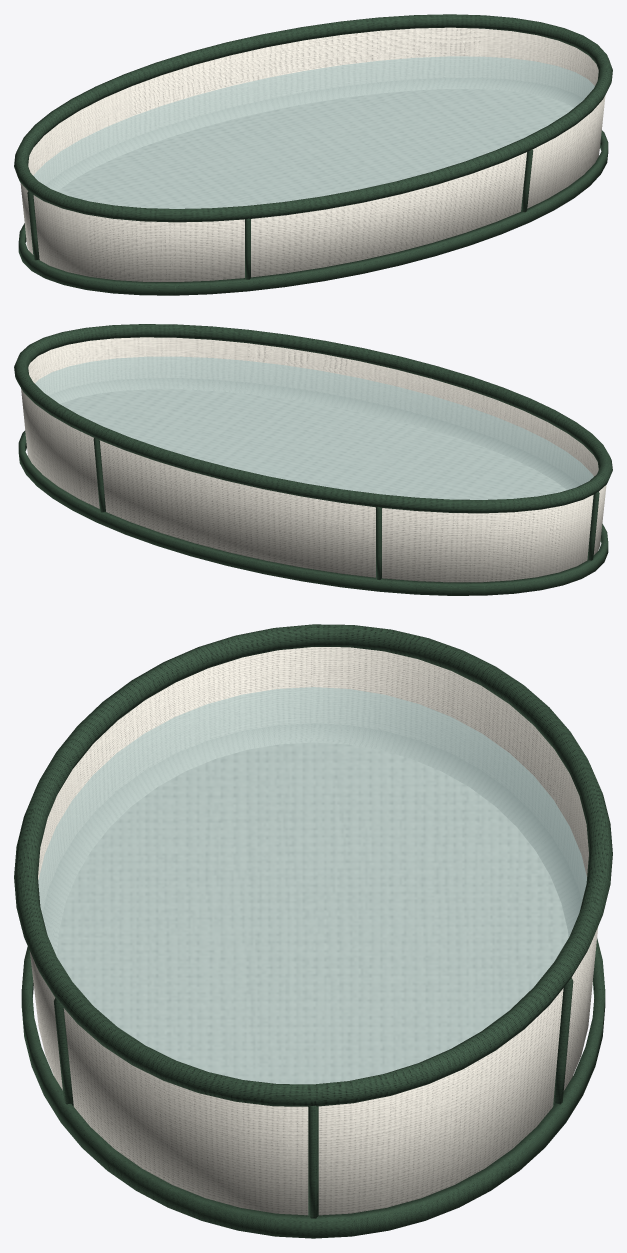
The model's file is PoolBath.fbx.
3 views of the same model, one above another, from view 1: azimuth 30°, elevation 25°; view 2: azimuth 150°, elevation 25°; view 3: azimuth 270°, elevation 25° (orthographic). The views are drawn at different scales.
Parts seen in each view (by area): view 1: PoolBath_Floor, PoolBath_Water, PoolBath_Rim, PoolBath_Wall; view 2: PoolBath_Floor, PoolBath_Water, PoolBath_Rim, PoolBath_Wall; view 3: PoolBath_Floor, PoolBath_Water, PoolBath_Rim, PoolBath_Wall.
Boxes of the visible parts, x1=… form: PoolBath_Floor: x1=20, y1=27, x2=605, y2=281; PoolBath_Water: x1=34, y1=56, x2=594, y2=208; PoolBath_Rim: x1=14, y1=14, x2=612, y2=222; PoolBath_Wall: x1=18, y1=130, x2=608, y2=295; PoolBath_Floor: x1=21, y1=337, x2=606, y2=582; PoolBath_Water: x1=35, y1=356, x2=593, y2=499; PoolBath_Rim: x1=14, y1=324, x2=612, y2=513; PoolBath_Wall: x1=18, y1=430, x2=608, y2=595; PoolBath_Floor: x1=30, y1=647, x2=598, y2=1215; PoolBath_Water: x1=38, y1=687, x2=586, y2=1084; PoolBath_Rim: x1=14, y1=624, x2=612, y2=1106; PoolBath_Wall: x1=21, y1=938, x2=605, y2=1238.
Size of the model in its own units: 1.3 by 0.216 by 0.7.
